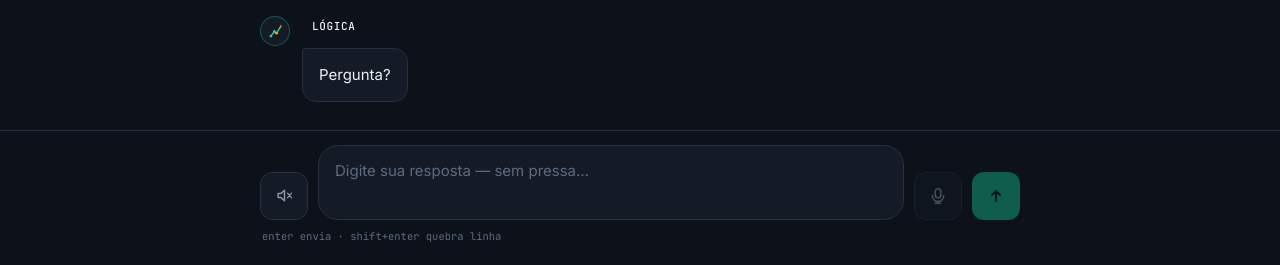
Test case: InterviewPage — send() › submitting sempre volta a false no finally, mesmo em erro
Expected: the text "Pergunta?" is shown, top-left (302, 48), bottom-right (408, 102)
In the text box labelled "sua resposta": (611, 182) top-left (318, 145), bottom-right (904, 220), type "minha resposta"
Then press Enter
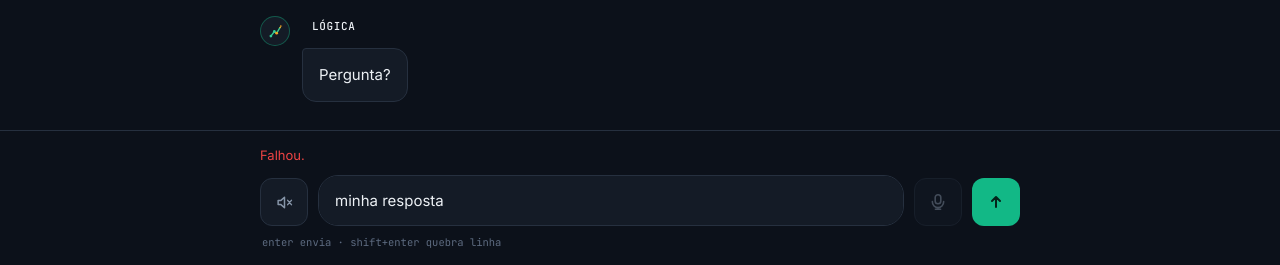
Expected: the text box named "sua resposta" is enabled, top-left (318, 175), bottom-right (904, 226)
Expected: the text "Falhou." is shown, top-left (260, 147), bottom-right (305, 163)
